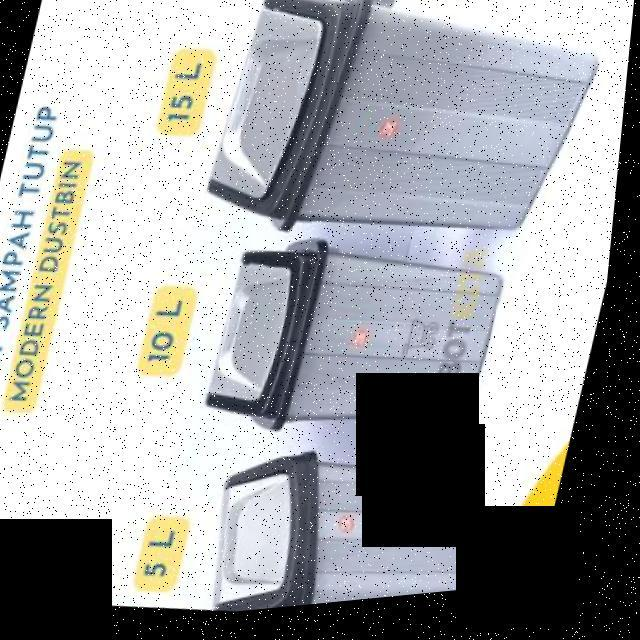bin: (187, 0, 636, 291), (197, 216, 536, 477), (195, 422, 513, 621)
